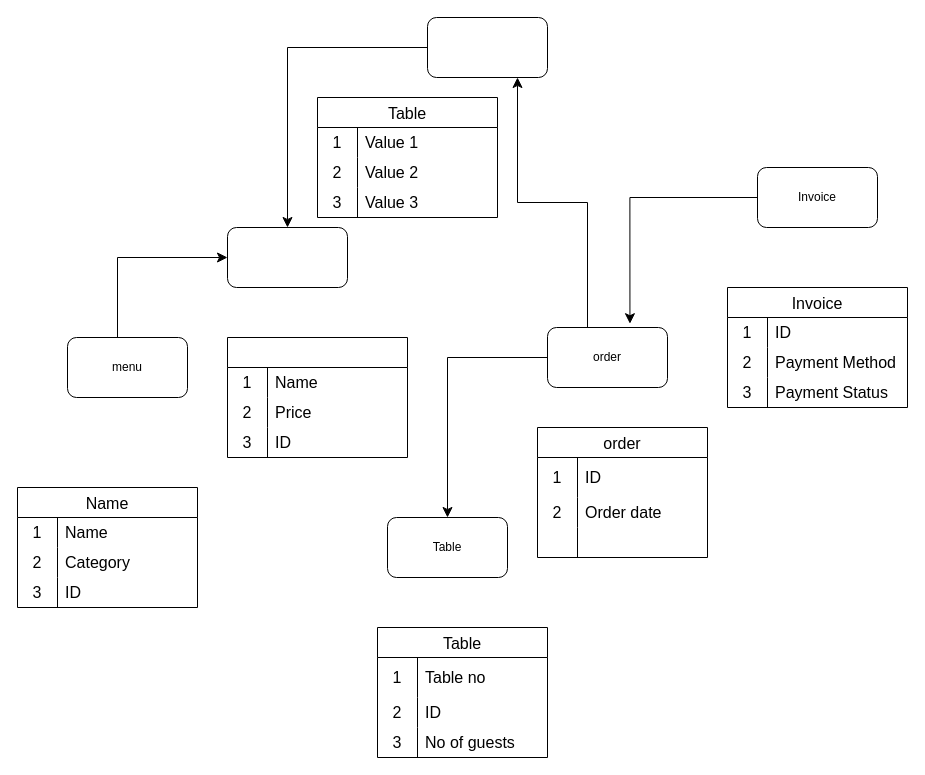
The diagram is 925 pixels wide and 775 high, and some of its shapes have lost their labels. The shapes that lost their labels are listed below. From the top down, each one's box as (x1, y1, x2, y2) in pixels, then its label:
(426, 16, 548, 78): Order item
(226, 226, 348, 288): Food item
(226, 336, 408, 458): Food
